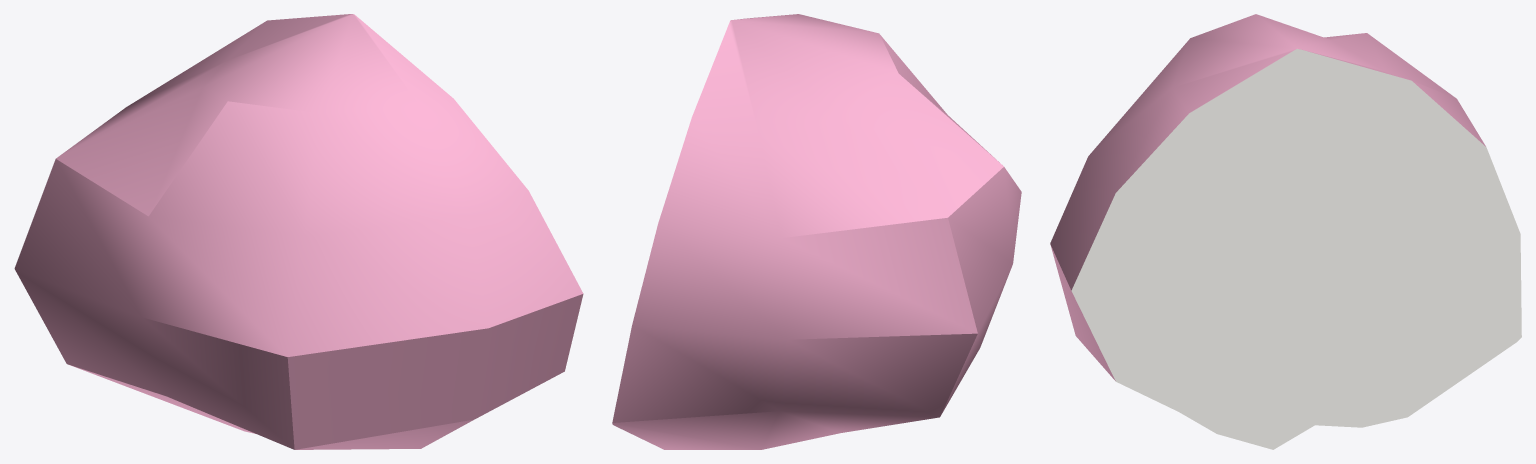
The model's file is CandyRock_Broken.fbx.
3 renders of one model, left to right at view 1: azimuth 30°, elevation 25°; view 2: azimuth 150°, elevation 25°; view 3: azimuth 270°, elevation 25°, orthographic. The views are drawn at different scales.
Visible parts, largest first — view 1: CandyRock_Broken; view 2: CandyRock_Broken; view 3: CandyRock_Broken.
Part boxes in pixels (x1,y1,x2,y2): CandyRock_Broken: (14,14,583,449); CandyRock_Broken: (612,14,1021,449); CandyRock_Broken: (1050,14,1521,449).
Size of the model in its own units: 3.02 by 2.86 by 3.33.
